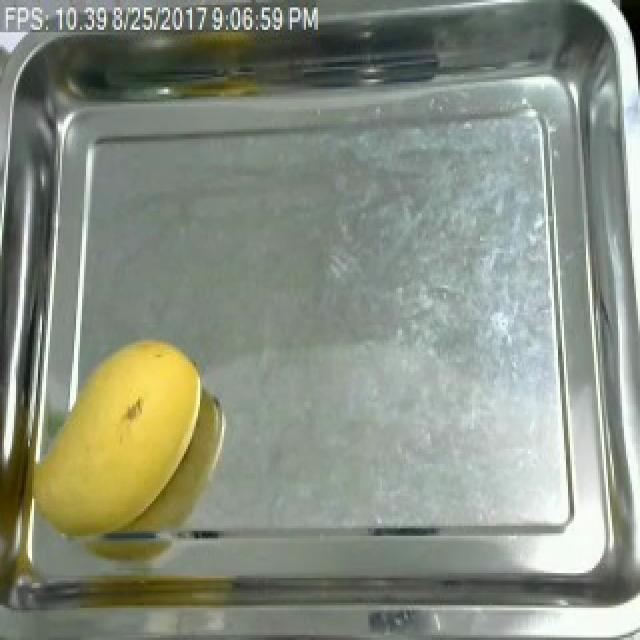fruit: (32, 325, 214, 546)
